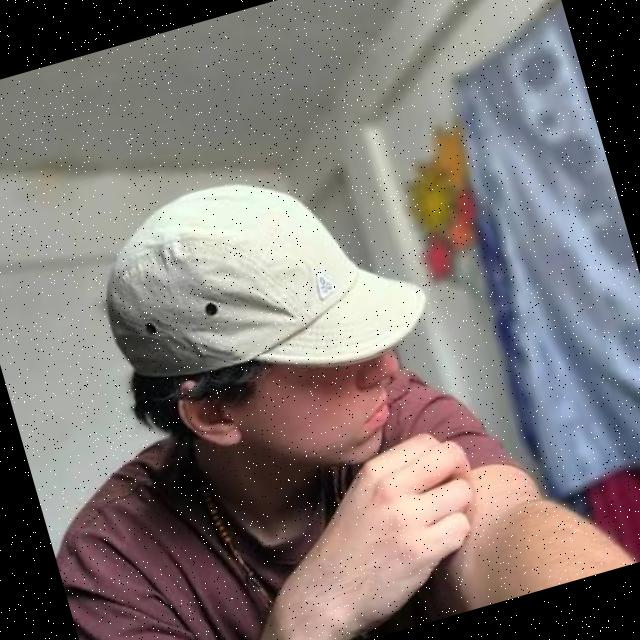Gorra: (72, 132, 446, 427)
